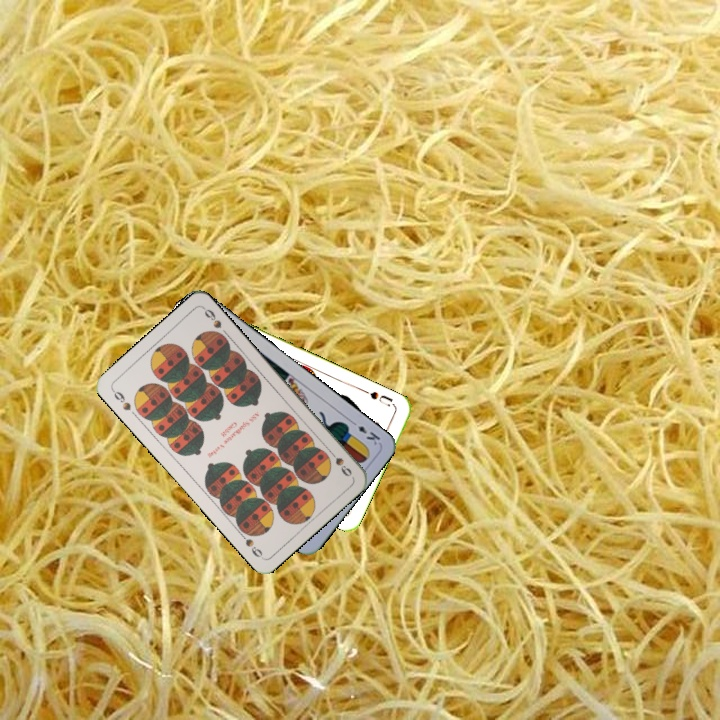EK: (346, 416, 383, 448)
S9: (324, 445, 355, 479), (108, 385, 133, 413)
SU: (359, 386, 398, 409)
